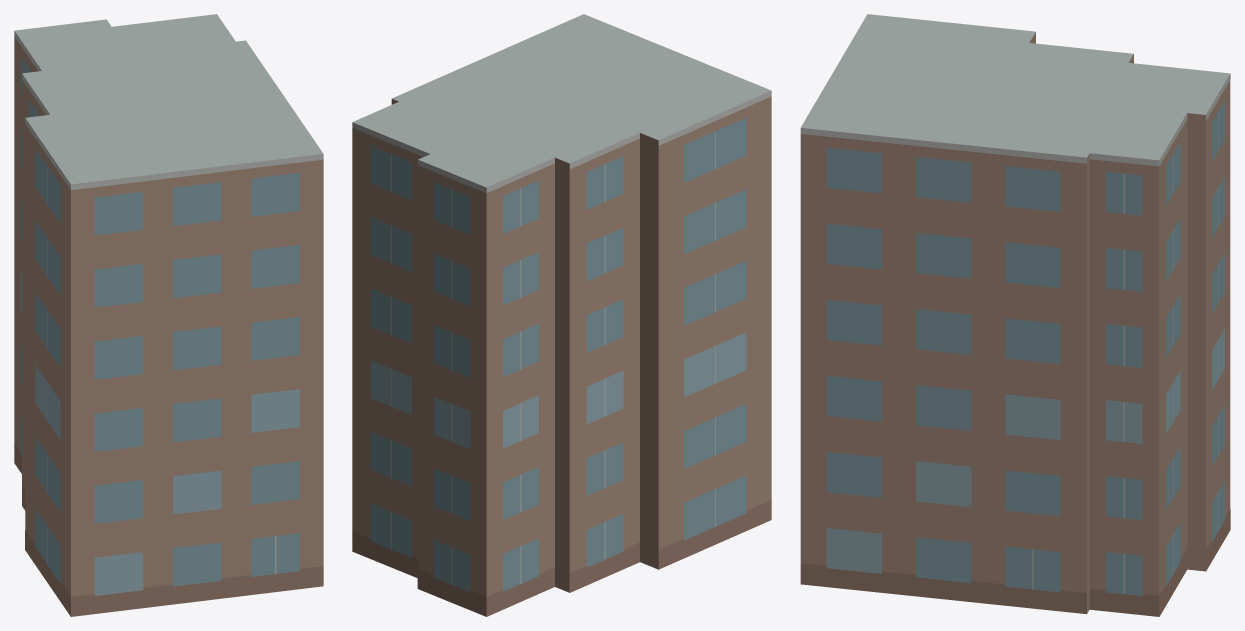
Rendered from survey-upis-32875037.glb.
The picture shows the model from 3 angles, left to right: view 1: azimuth 30°, elevation 25°; view 2: azimuth 150°, elevation 25°; view 3: azimuth 270°, elevation 25°; orthographic projection. The views are drawn at different scales.
Parts seen in each view (by area): view 1: survey-upis-32875037.tmp; view 2: survey-upis-32875037.tmp; view 3: survey-upis-32875037.tmp.
Part boxes in pixels (x1=…): survey-upis-32875037.tmp: x1=14, y1=14, x2=323, y2=616; survey-upis-32875037.tmp: x1=352, y1=14, x2=771, y2=616; survey-upis-32875037.tmp: x1=800, y1=14, x2=1230, y2=616.
Bounding box in the file's own units: 12.6 × 18.3 × 15.63.
